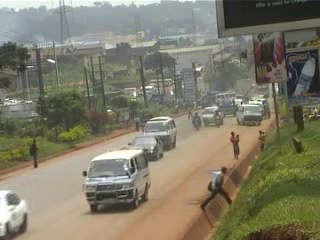Car: (0, 186, 29, 238), (126, 132, 166, 162)
Motorcycle: (191, 112, 202, 132), (214, 109, 223, 130)
